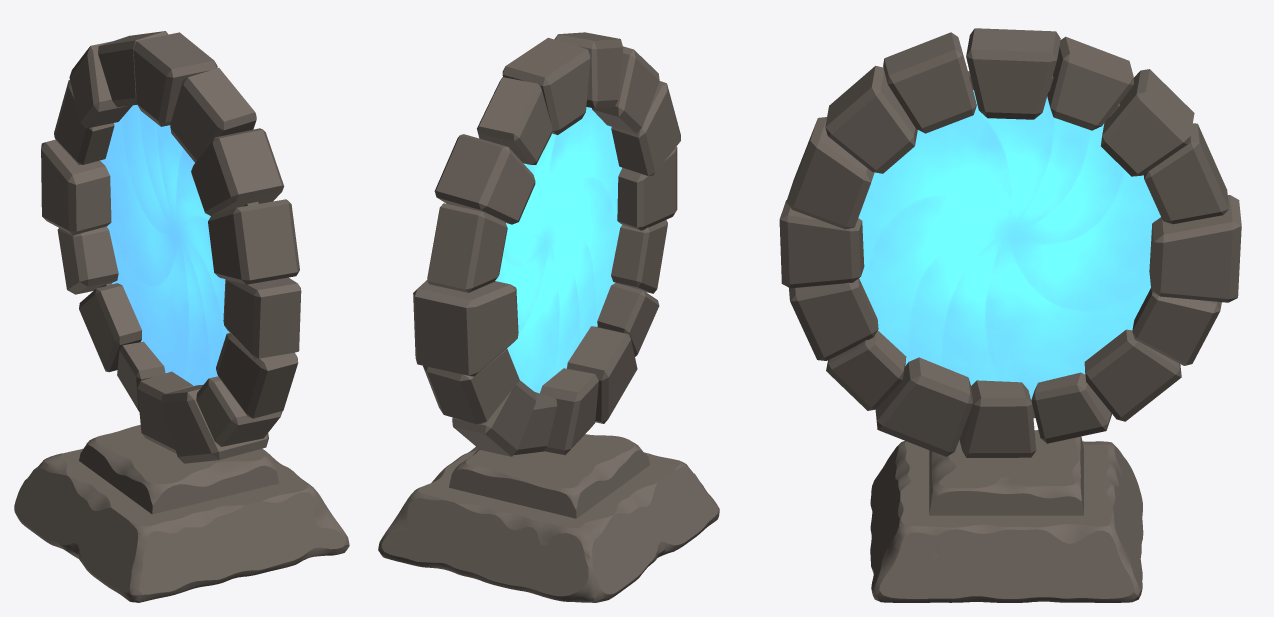
File: PRP_DomainPortal_B.glb
3 renders of one model, left to right at view 1: azimuth 30°, elevation 25°; view 2: azimuth 150°, elevation 25°; view 3: azimuth 270°, elevation 25°, orthographic. The views are drawn at different scales.
Parts seen in each view (by area): view 1: Cube.008_Material.002_0, Cube.008_Material.009_0; view 2: Cube.008_Material.002_0, Cube.008_Material.009_0; view 3: Cube.008_Material.002_0, Cube.008_Material.009_0.
Part boxes in pixels (box(x1,y1,x2,y2)): Cube.008_Material.002_0: box(14, 31, 349, 602); Cube.008_Material.009_0: box(100, 105, 229, 385); Cube.008_Material.002_0: box(378, 32, 719, 602); Cube.008_Material.009_0: box(495, 107, 621, 393); Cube.008_Material.002_0: box(779, 28, 1241, 602); Cube.008_Material.009_0: box(858, 90, 1160, 399).
Bounding box in the file's own units: 6.29 × 13.54 × 11.79.
2 materials, 1 textured.
